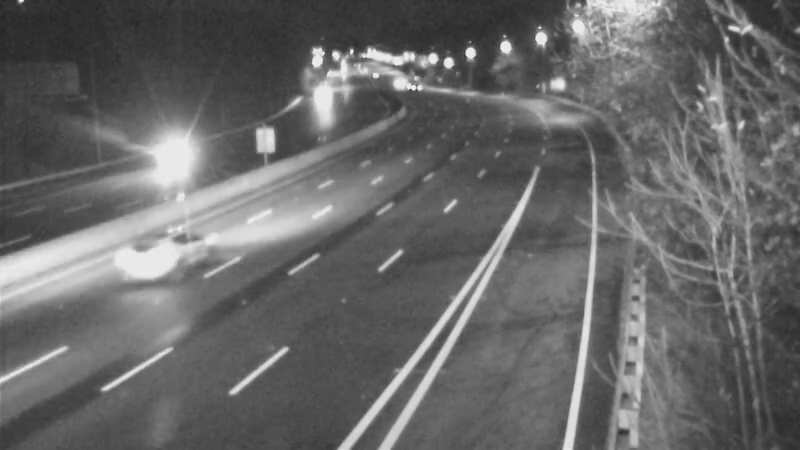vehicle: (119, 214, 199, 294), (123, 120, 203, 200), (372, 58, 422, 108), (387, 60, 437, 110), (301, 68, 351, 118)
